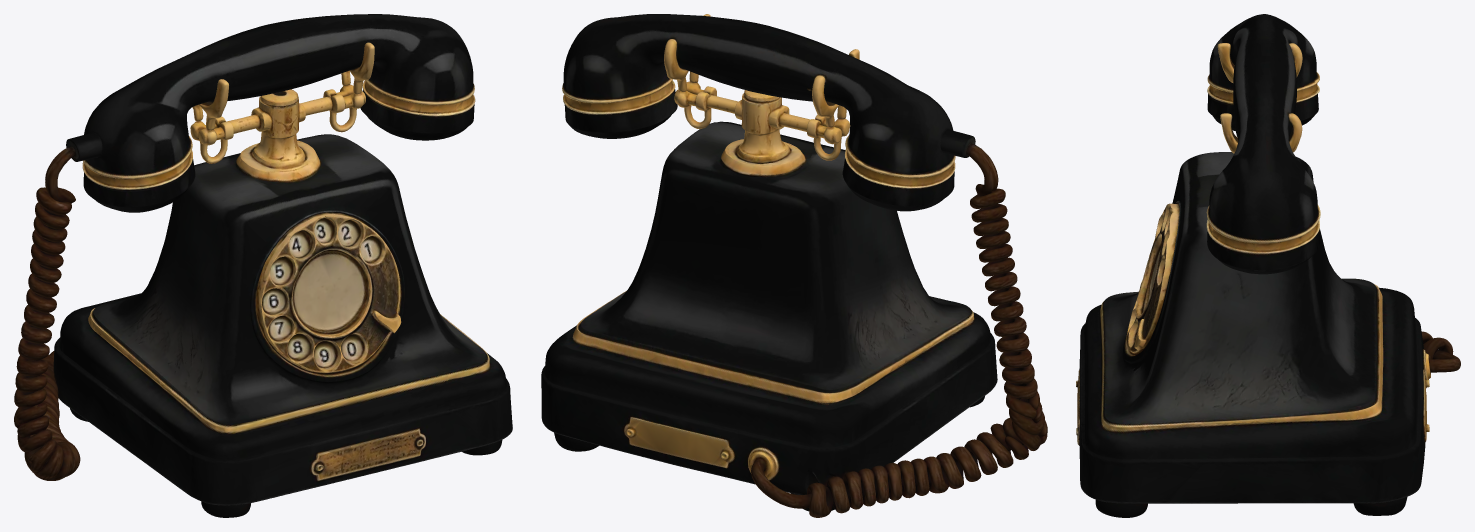
Rendered from telephone.glb.
3 renders of one model, left to right at view 1: azimuth 30°, elevation 25°; view 2: azimuth 150°, elevation 25°; view 3: azimuth 270°, elevation 25°, orthographic. The views are drawn at different scales.
Visible parts, largest first — view 1: Object_5, Object_15; view 2: Object_5; view 3: Object_5, Object_21, Object_15.
Part boxes in pixels (x1=…): Object_5: x1=14, y1=14, x2=512, y2=505; Object_15: x1=70, y1=408, x2=250, y2=517; Object_5: x1=541, y1=14, x2=1047, y2=517; Object_5: x1=1076, y1=14, x2=1460, y2=503; Object_21: x1=1095, y1=500, x2=1147, y2=517; Object_15: x1=1353, y1=497, x2=1407, y2=515.
Size of the model in its own units: 1.9 by 1.59 by 1.41.
3 materials, 3 textured.
